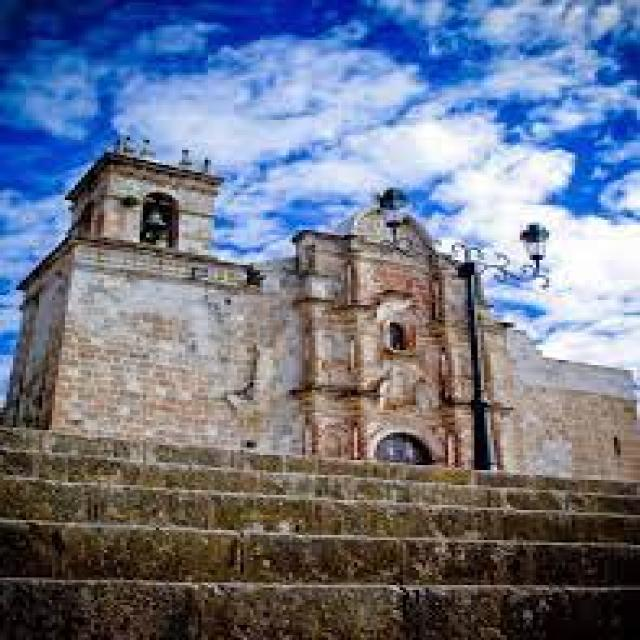CAMPANARIO: (71, 129, 246, 255)
CUPULA: (0, 60, 637, 499)
SIMETRIA COLONIAL: (341, 404, 470, 476)
